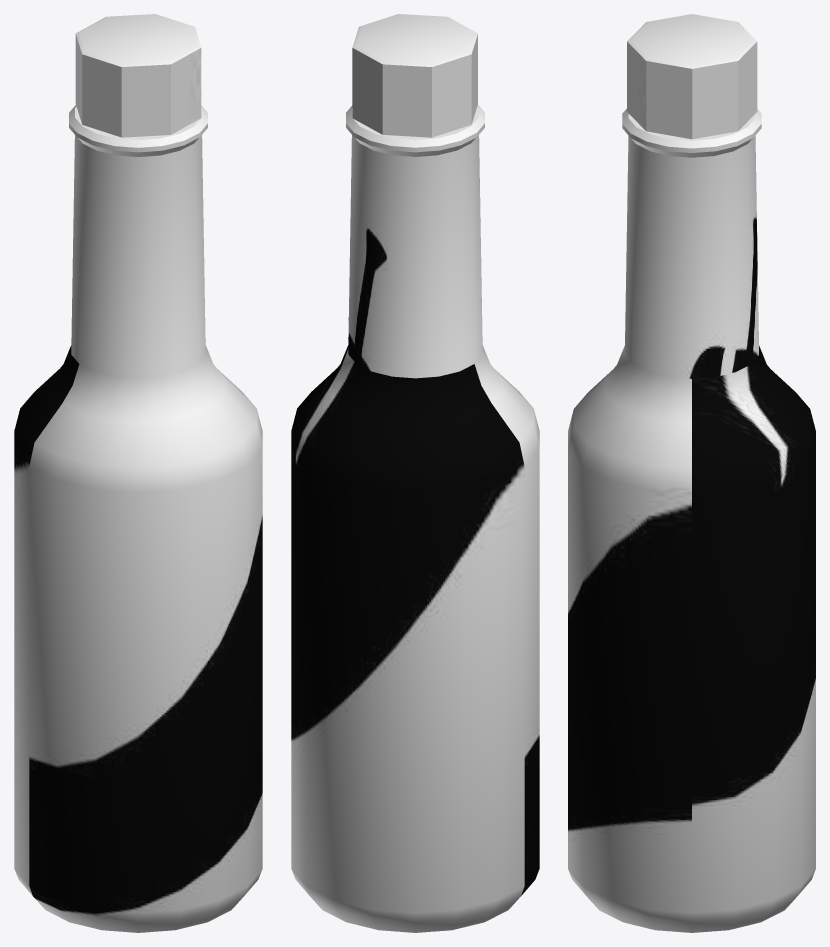
The model's file is Spicy.FBX.
3 renders of one model, left to right at view 1: azimuth 30°, elevation 25°; view 2: azimuth 150°, elevation 25°; view 3: azimuth 270°, elevation 25°, orthographic.
Parts seen in each view (by area): view 1: spicy; view 2: spicy; view 3: spicy.
Boxes of the visible parts, x1,y1,x2,y2 form: spicy: [14, 14, 262, 932]; spicy: [291, 14, 539, 932]; spicy: [568, 14, 815, 932].
Size of the model in its own units: 4.62 by 17.16 by 4.55.
